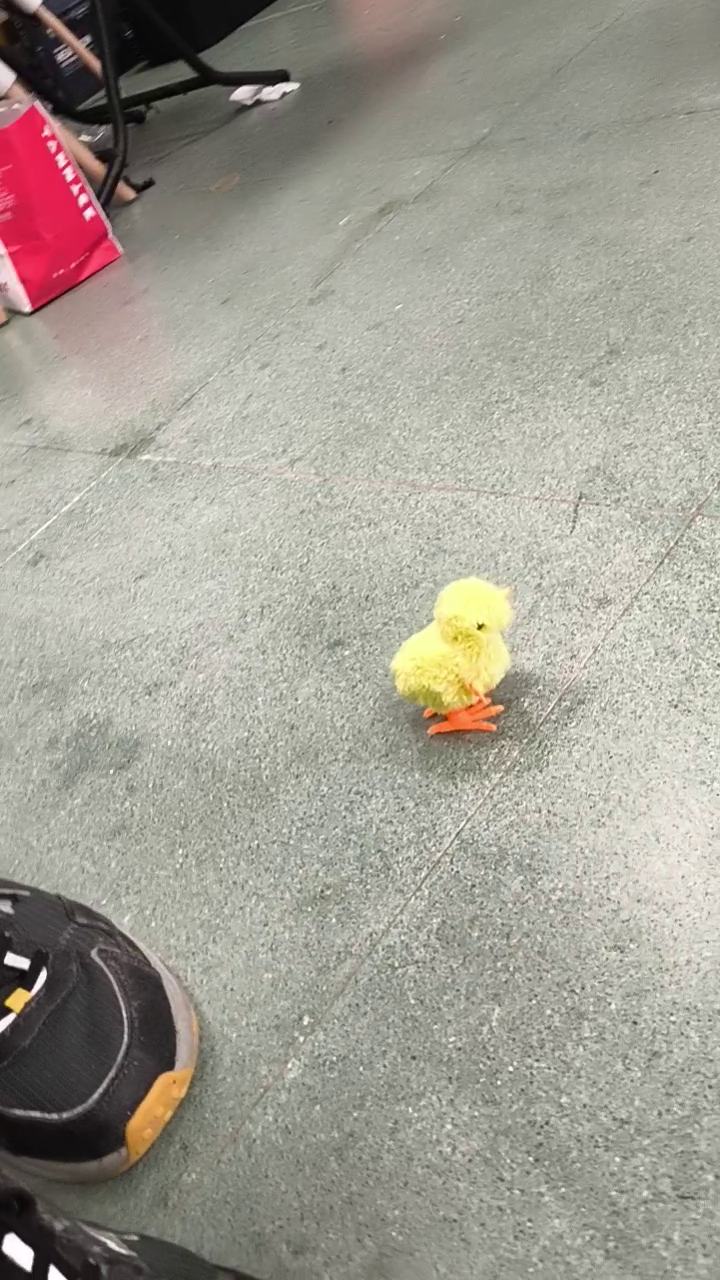yellow chicken: (386, 573, 518, 740)
